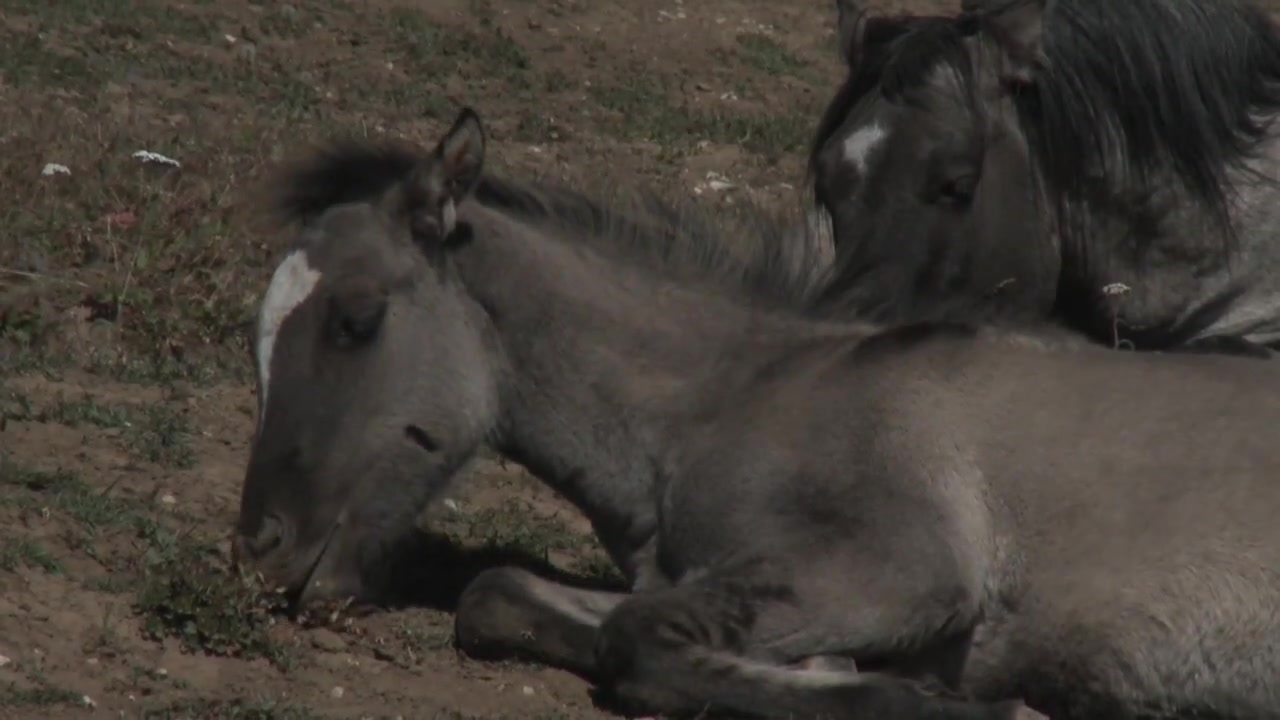horse: (229, 104, 1280, 720), (809, 1, 1280, 359)
